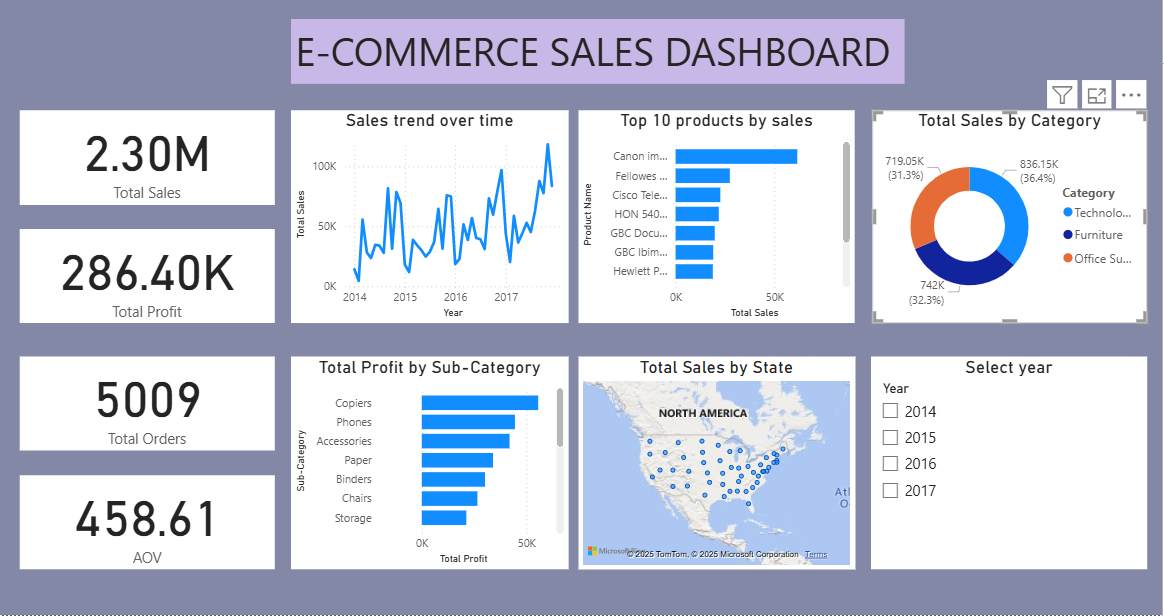

This screenshot's page, from the dashboard's own definition file:
{"tool":"powerbi","page":{"name":"Page 1","canvas":[1280,720],"ordinal":0},"visuals":[{"type":"textbox","box":[324.3,35.7,672.9,71.4],"z":0},{"type":"card","fields":{"Values":["Orders.Total Profit"]},"box":[2.9,282.9,302.9,102.9],"z":1000},{"type":"card","fields":{"Values":["Orders.Total Orders"]},"box":[2.9,450,302.9,102.9],"z":2000},{"type":"card","fields":{"Values":["Orders.AOV"]},"box":[2.9,580,302.9,102.9],"z":3000},{"type":"lineChart","title":"Total Sales trend analysis","fields":{"Y":["Orders.Total Sales"],"Category":["Orders.Order Date.Variation.Date Hierarchy.Year","Orders.Order Date.Variation.Date Hierarchy.Month"]},"box":[324.3,152.9,304.3,232.9],"z":4000},{"type":"barChart","fields":{"Y":["Orders.Total Sales"],"Category":["Orders.Product Name"]},"box":[639.5,152.3,303.3,233.3],"z":5000},{"type":"donutChart","fields":{"Category":["Orders.Category"],"Y":["Orders.Total Sales"]},"box":[961.4,152.9,302.9,232.9],"z":6000},{"type":"barChart","fields":{"Category":["Orders.Sub-Category"],"Y":["Orders.Total Profit"]},"box":[324.3,450,304.3,232.9],"z":7000},{"type":"map","fields":{"Category":["Orders.State"],"Y":["Orders.Total Sales"]},"box":[640,450,302.9,232.9],"z":8000},{"type":"slicer","title":"Select year","fields":{"Values":["Orders.Year"]},"box":[961.4,450,304.3,232.9],"z":9000},{"type":"card","fields":{"Values":["Orders.Total Sales"]},"box":[2.9,152.9,302.9,104.3],"z":10000}]}

Visuals, with their boxes in screenshot pixels (x1, y1, x2, y2):
textbox: Rect(291, 2, 900, 67)
card - Orders.Total Profit: Rect(0, 226, 274, 319)
card - Orders.Total Orders: Rect(0, 377, 274, 471)
card - Orders.AOV: Rect(0, 495, 274, 588)
"Total Sales trend analysis" lineChart: Rect(291, 108, 566, 319)
barChart - Orders.Total Sales x Orders.Product Name: Rect(576, 108, 851, 319)
donutChart - Orders.Category x Orders.Total Sales: Rect(868, 108, 1142, 319)
barChart - Orders.Sub-Category x Orders.Total Profit: Rect(291, 377, 566, 588)
map - Orders.State x Orders.Total Sales: Rect(577, 377, 851, 588)
"Select year" slicer: Rect(868, 377, 1144, 588)
card - Orders.Total Sales: Rect(0, 108, 274, 203)
